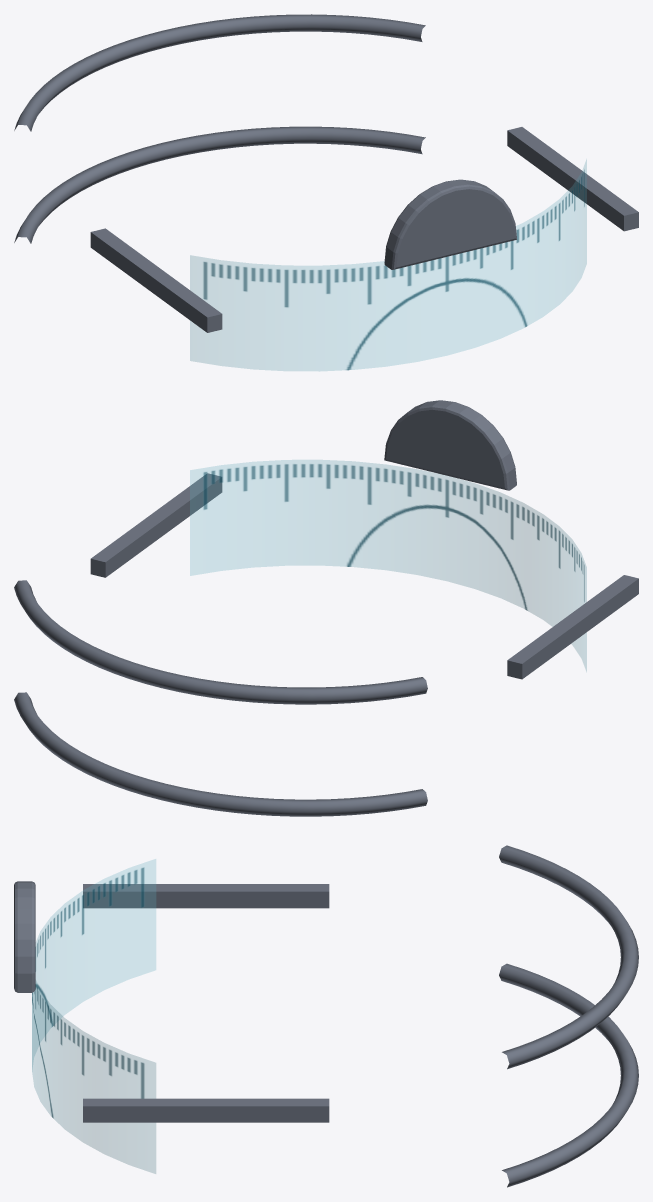
Rendered from gl_eqsu0.glb.
The picture shows the model from 3 angles, top to bottom: view 1: azimuth 30°, elevation 25°; view 2: azimuth 150°, elevation 25°; view 3: azimuth 270°, elevation 25°; orthographic projection. The views are drawn at different scales.
Size of the model in its own units: 2.23 by 0.9107 by 2.66.
Materials: 2 (1 with a texture image).
